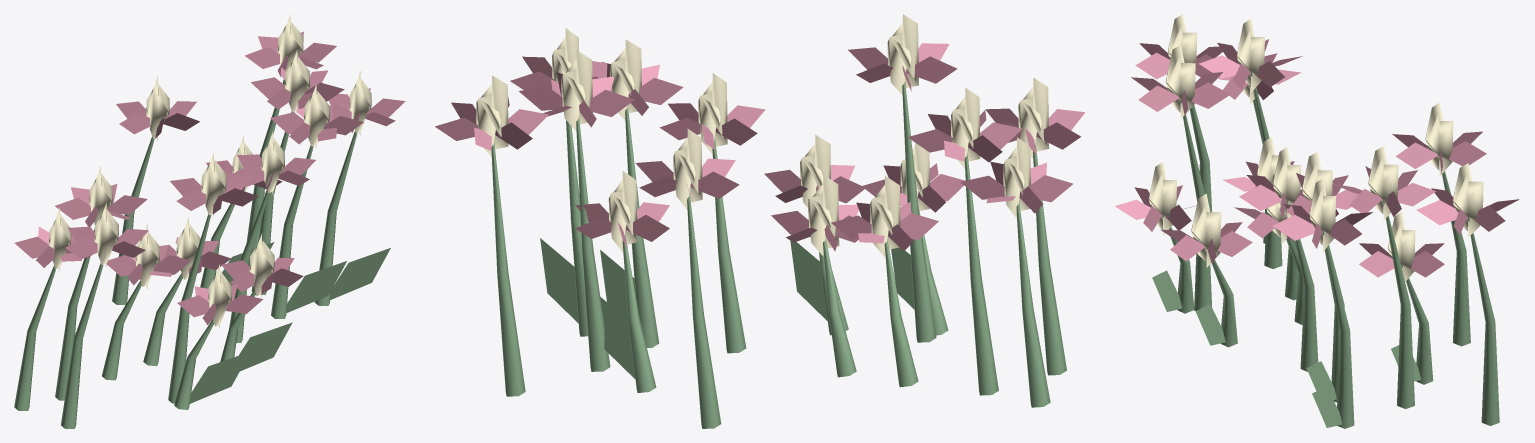
The model's file is flower_pink.glb.
The picture shows the model from 3 angles, left to right: view 1: azimuth 30°, elevation 25°; view 2: azimuth 150°, elevation 25°; view 3: azimuth 270°, elevation 25°; orthographic projection. The views are drawn at different scales.
Visible parts, largest first — view 1: flower_pink; view 2: flower_pink; view 3: flower_pink.
Boxes of the visible parts, x1,y1,x2,y2 form: flower_pink: (14, 14, 405, 428); flower_pink: (435, 14, 1084, 428); flower_pink: (1115, 14, 1519, 428).
Size of the model in its own units: 1.44 by 0.8464 by 1.11.
